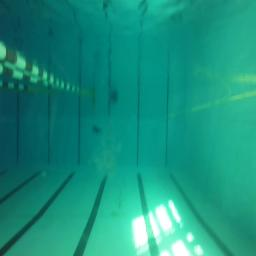Full: (108, 90, 117, 103), (92, 124, 103, 134)
